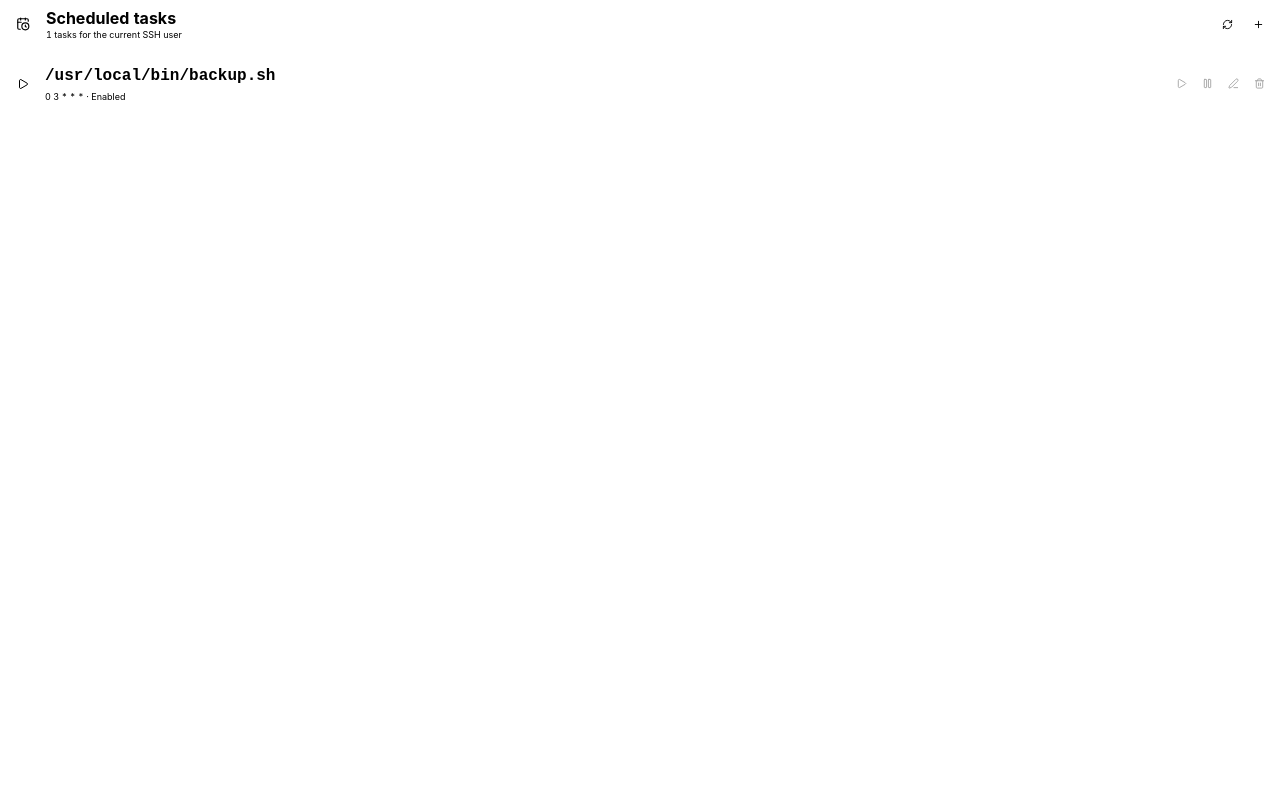
CronPanel discard prompt › keeps the draft when the user chooses to keep editing
The image size is (1280, 800).
Click the button titled "Edit task".
click(1233, 84)  # box x1=1221 y1=72 x2=1245 y2=96
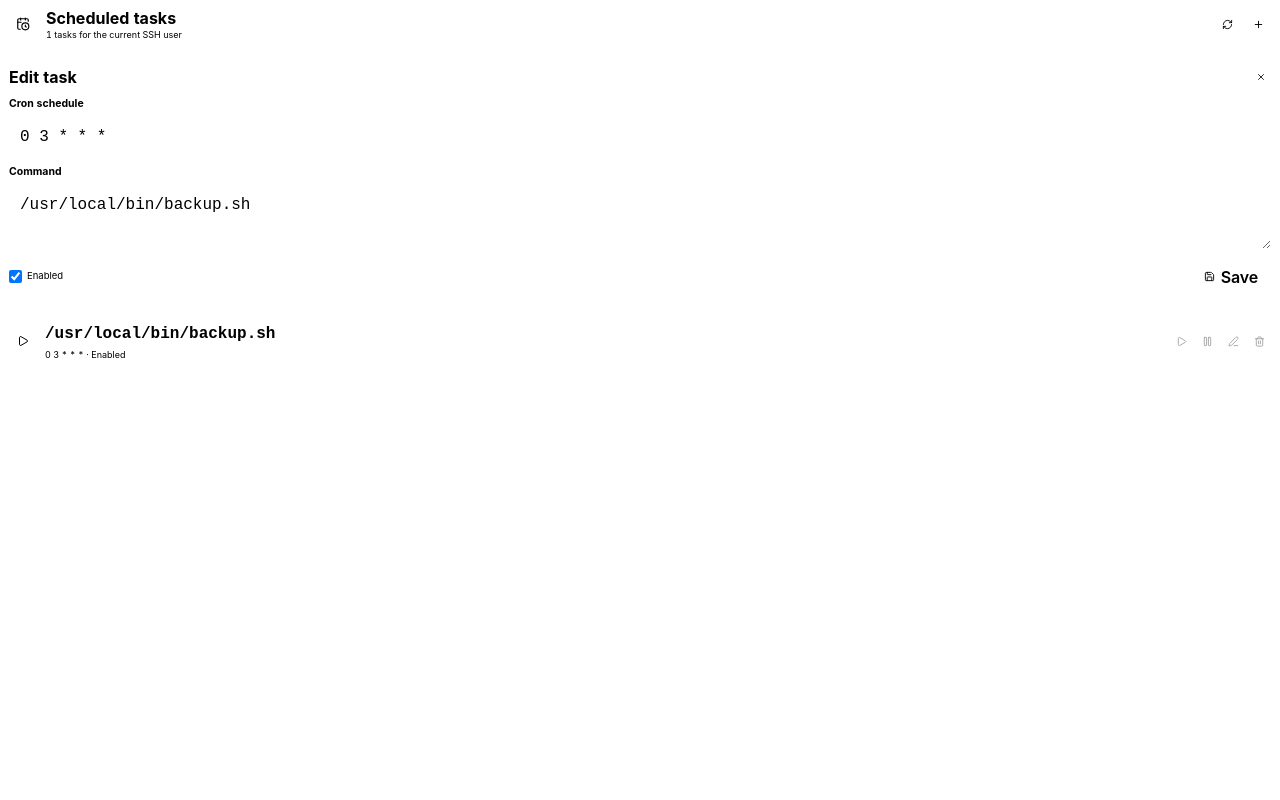
Now the text box with class "admin-command-input" holds "/usr/local/bin/backup.sh"
Type "/opt/new-backup.sh" into the text box with class "admin-command-input".
click(640, 216); type("/opt/new-backup.sh")  # box x1=9 y1=184 x2=1271 y2=248
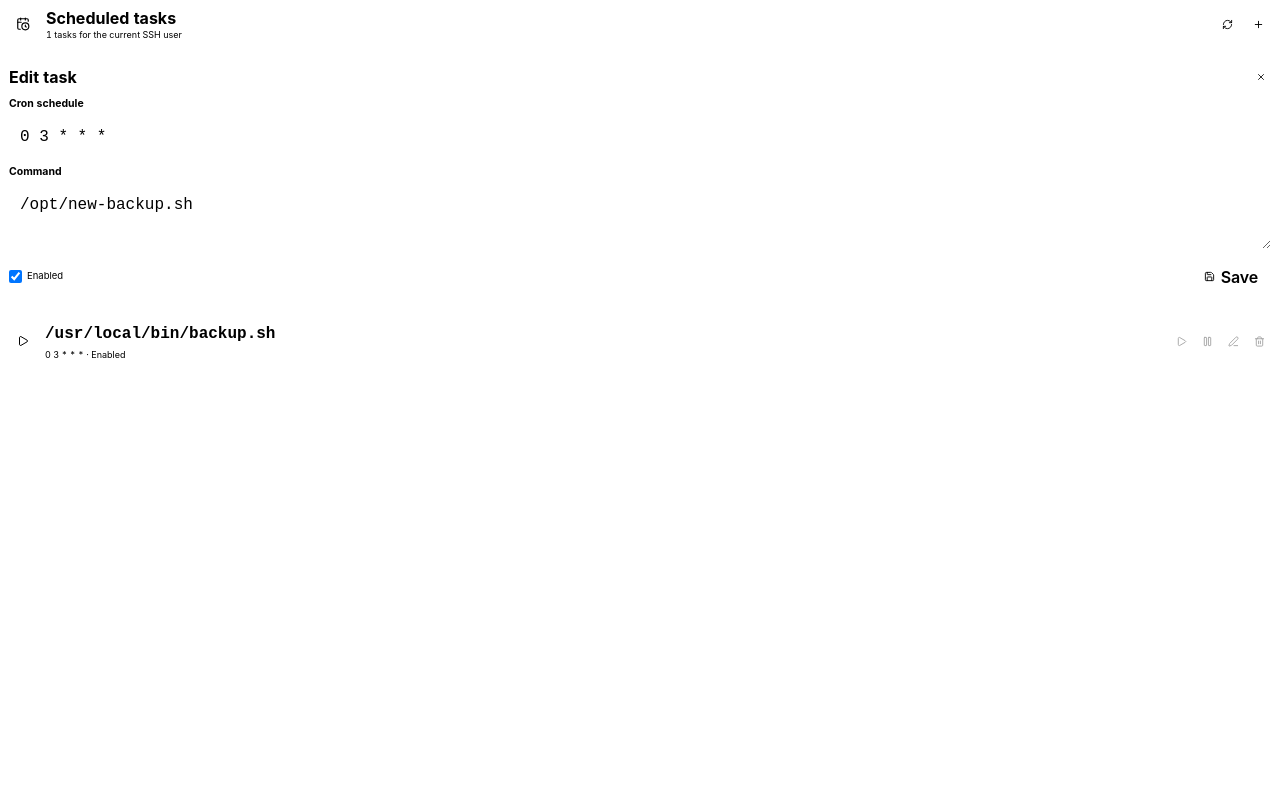
Click the button titled "Close".
click(1261, 77)  # box x1=1251 y1=67 x2=1271 y2=87
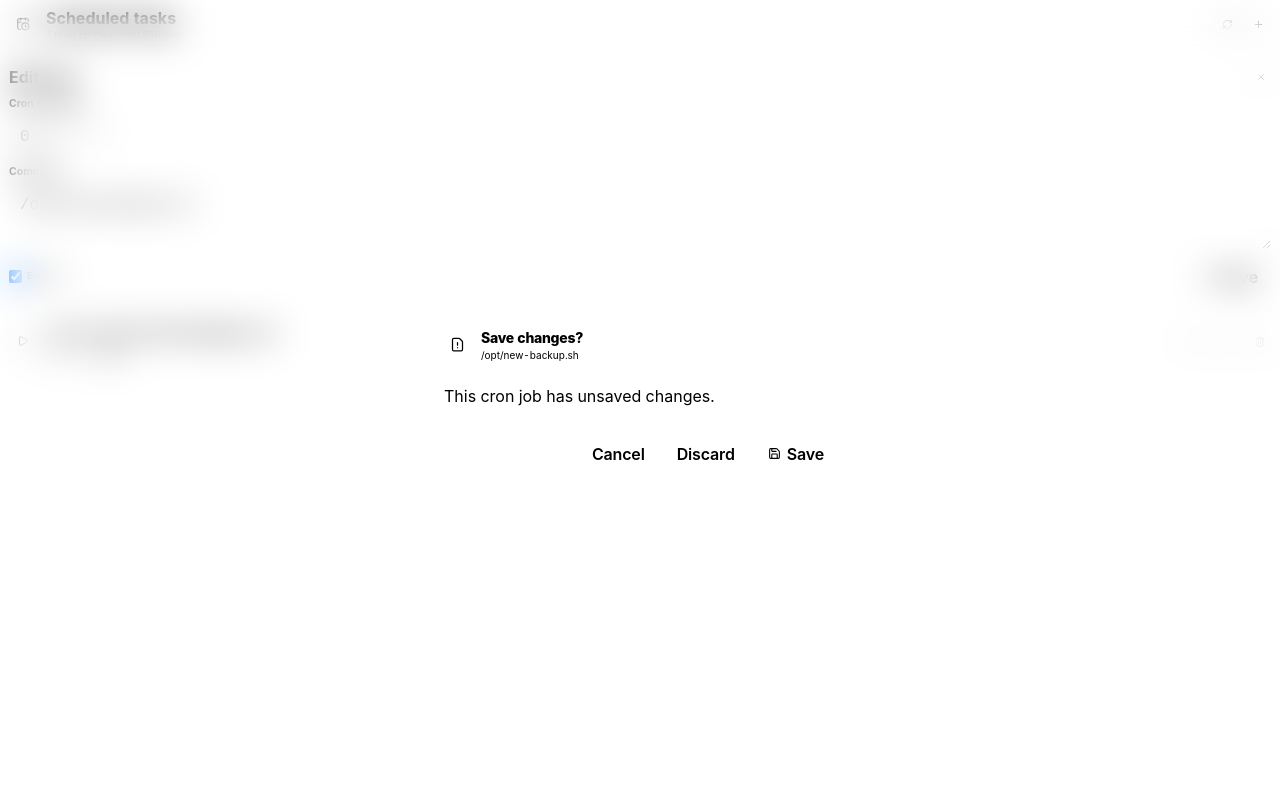
Click the button "Cancel".
click(618, 454)  # box x1=580 y1=434 x2=657 y2=472
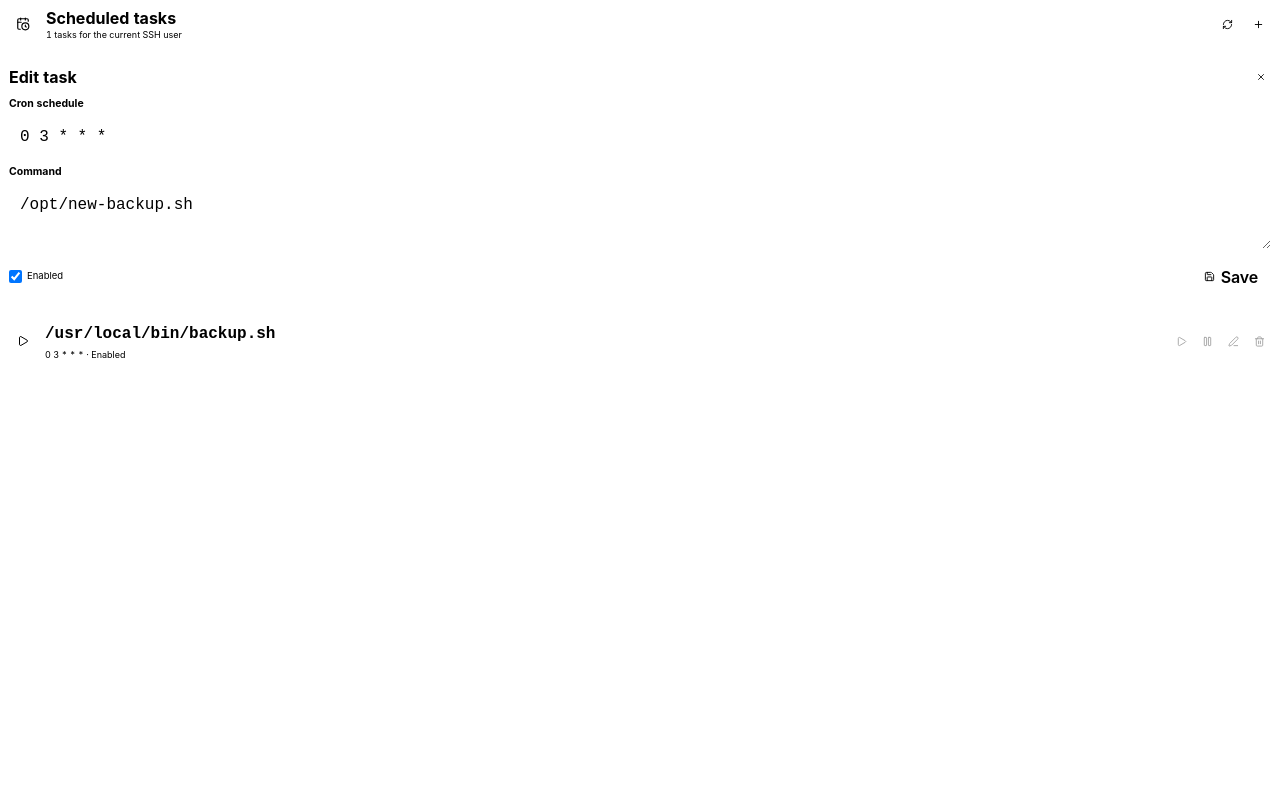
Now the button "Discard" is gone
